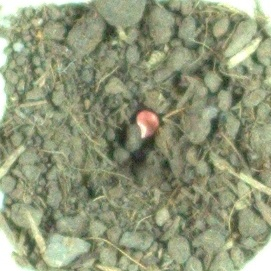pepper seed: (53, 37, 217, 180)
